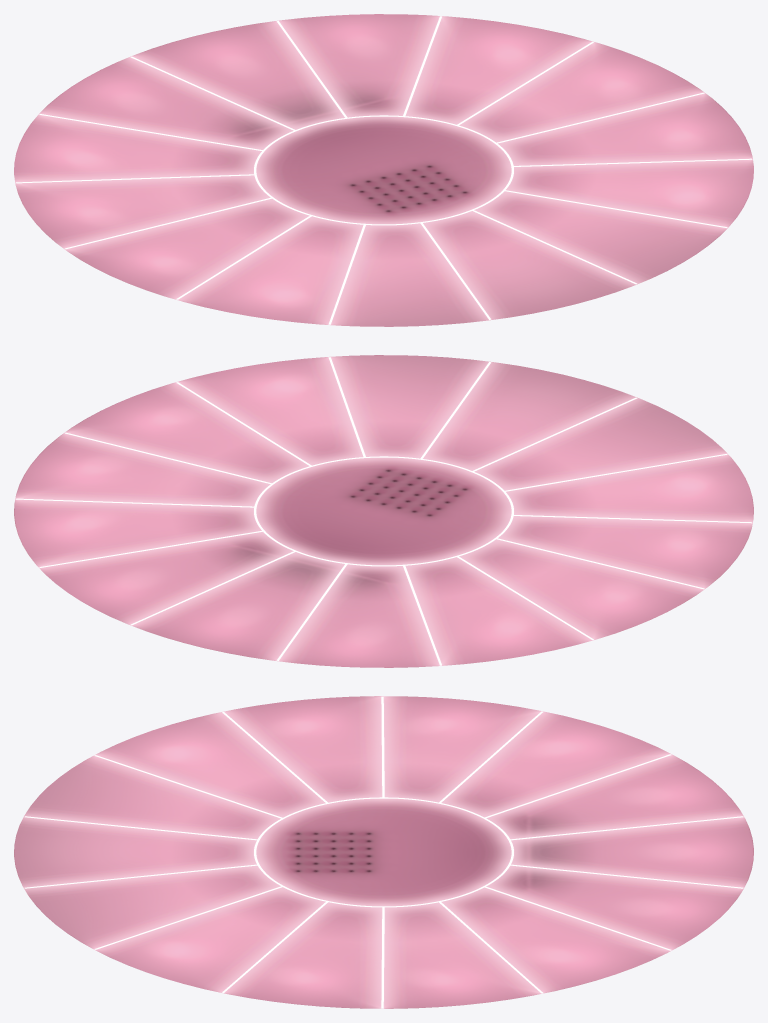
The model's file is Floor.glb.
The picture shows the model from 3 angles, top to bottom: view 1: azimuth 30°, elevation 25°; view 2: azimuth 150°, elevation 25°; view 3: azimuth 270°, elevation 25°; orthographic projection.
Visible parts, largest first — view 1: Floor.001, Floor_Lines.001; view 2: Floor.001, Floor_Lines.001; view 3: Floor.001, Floor_Lines.001.
Part boxes in pixels (<box>): Floor.001: <box>14,14,753,326</box>; Floor_Lines.001: <box>16,16,751,324</box>; Floor.001: <box>14,355,753,667</box>; Floor_Lines.001: <box>16,357,751,665</box>; Floor.001: <box>14,696,753,1008</box>; Floor_Lines.001: <box>25,696,742,1008</box>.
Bounding box in the file's own units: 50.1 × 0.00299 × 50.1.
Materials: 2 (1 with a texture image).
